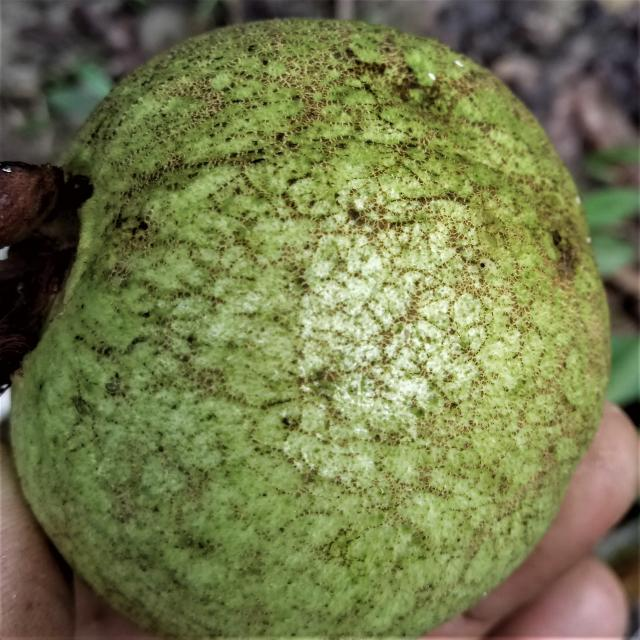Scab: (12, 20, 609, 639)
